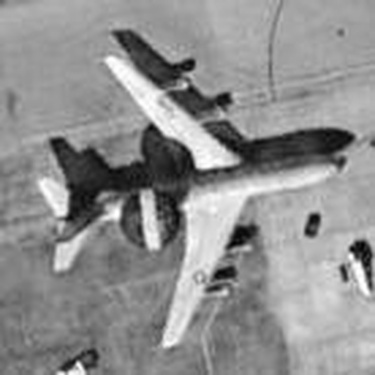airplane: (36, 32, 350, 364)
